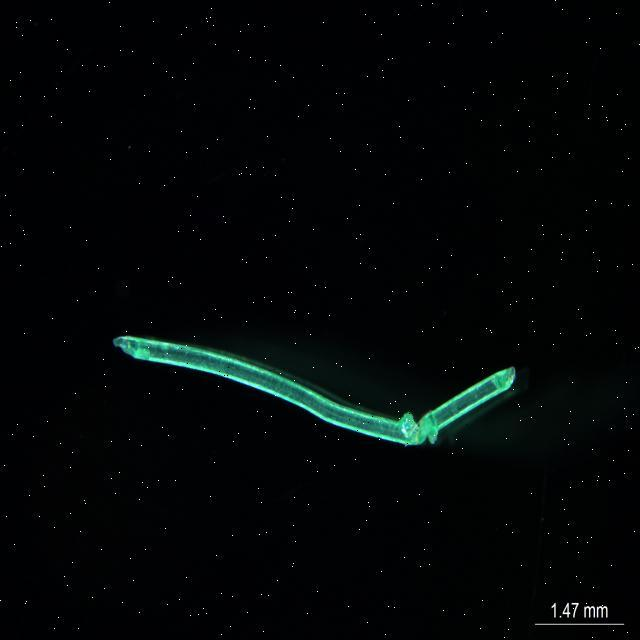Fibre: (104, 318, 526, 447)
